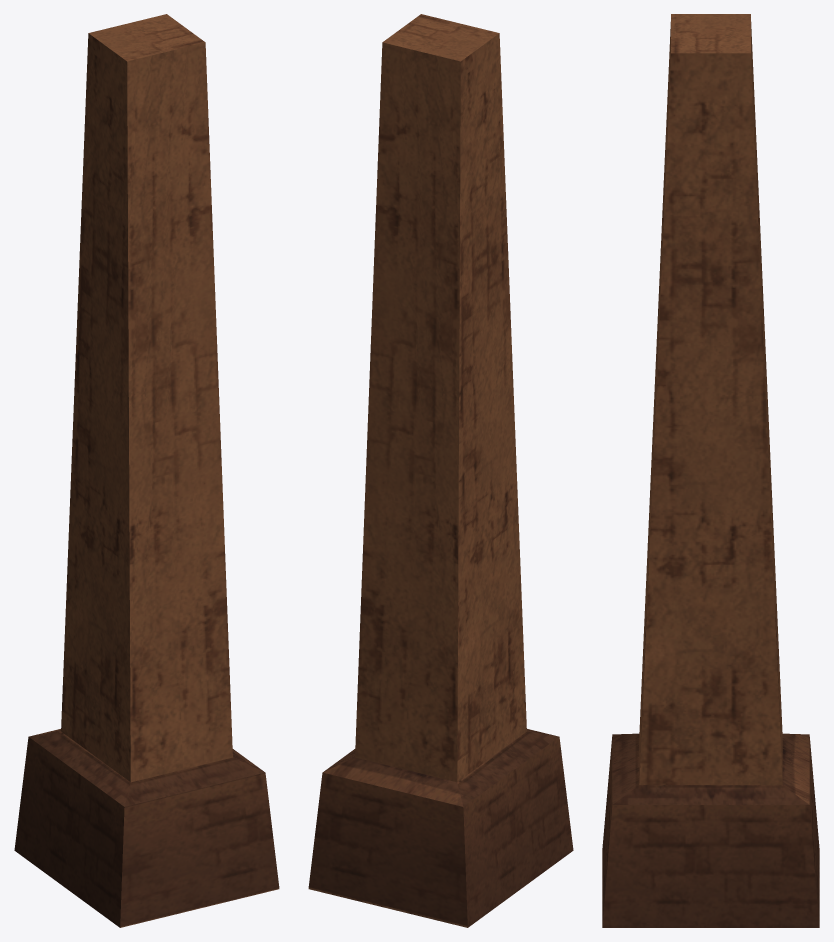
Rendered from Pillar_Corner.FBX.
The picture shows the model from 3 angles, left to right: view 1: azimuth 30°, elevation 25°; view 2: azimuth 150°, elevation 25°; view 3: azimuth 270°, elevation 25°; orthographic projection. The views are drawn at different scales.
Visible parts, largest first — view 1: Pillar_Corner; view 2: Pillar_Corner; view 3: Pillar_Corner.
Boxes of the visible parts, left/top/right/bottom form: Pillar_Corner: left=14, top=14, right=279, bottom=927; Pillar_Corner: left=308, top=14, right=573, bottom=927; Pillar_Corner: left=602, top=14, right=819, bottom=927.
Bounding box in the file's own units: 26.52 × 132 × 30.46.
1 material, 1 textured.
